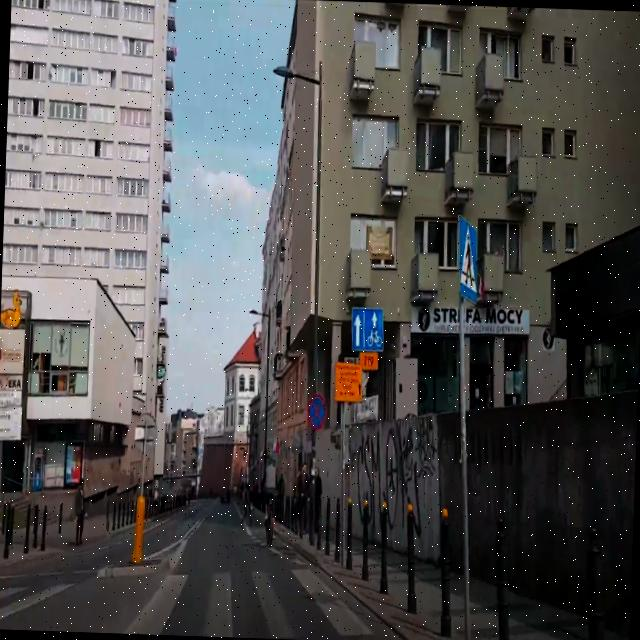Przejscie dla pieszych: (456, 214, 480, 304)
Zakaz zatrzymywania sie: (306, 392, 328, 429)
